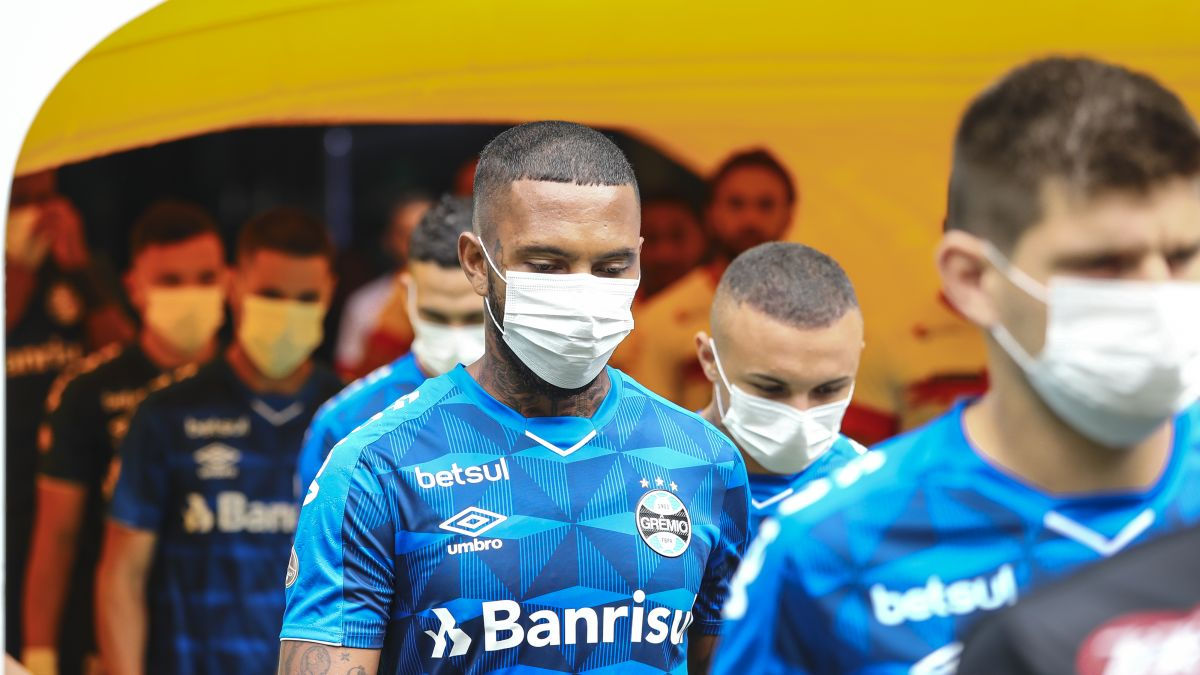with_mask: (1011, 211, 1190, 420), (494, 184, 630, 379), (754, 354, 850, 457), (242, 268, 317, 378), (139, 258, 219, 361)
